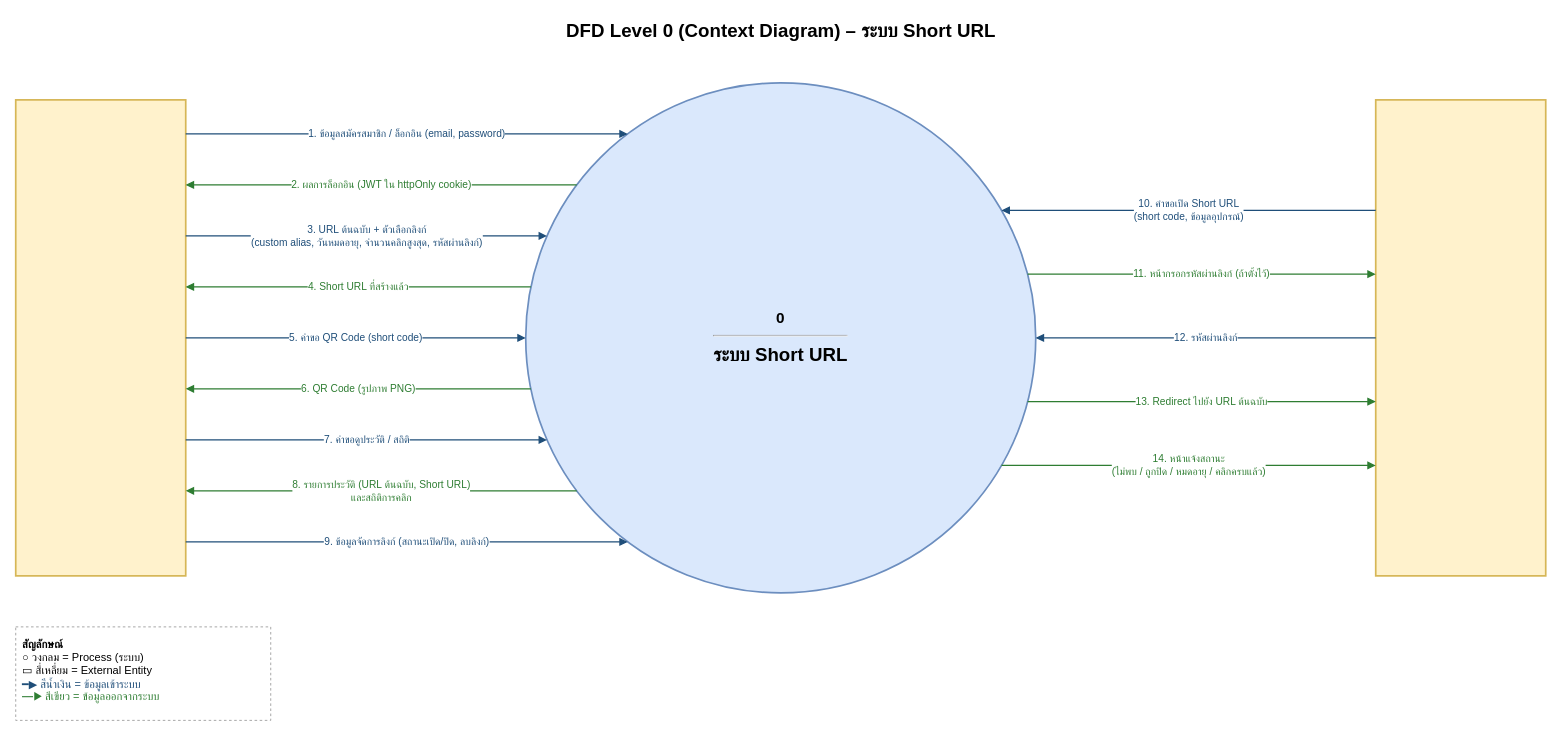
Some shapes in this 1561 by 735 pixel diagram are drawn without their labels. The centre of each missing label's shape, as x and y in pixels:
"ผู้เข้าชมลิงก์ (Visitor)" belongs at point 1460,337.
"เจ้าของลิงก์ (User)" belongs at point 100,337.
